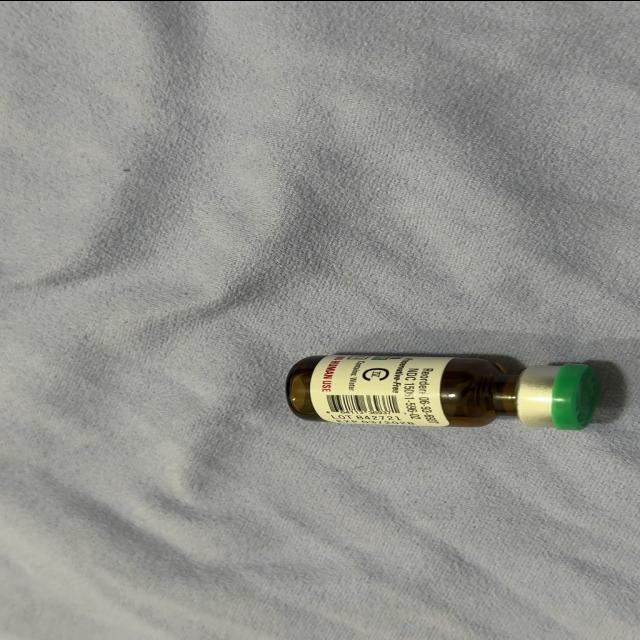midazolm: (291, 354, 593, 428)
